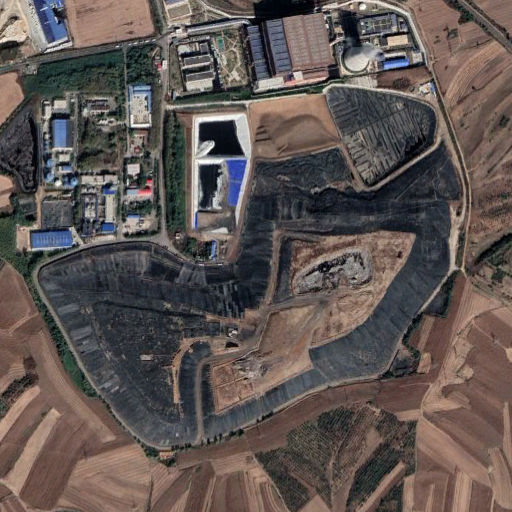lf: (29, 140, 475, 451)
